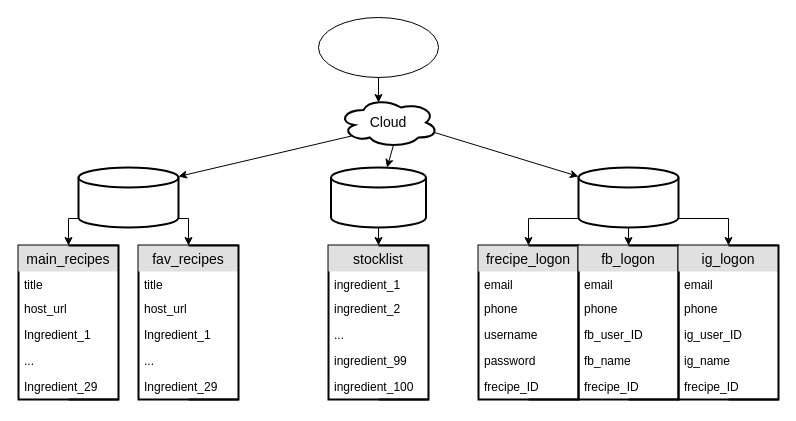
The diagram is 796 pixels wide and 421 high, and some of its shapes have lost their labels. The box of each missing label's shape, as (x1, y1, x2, y2) in pixels:
Frecipe application: (318, 16, 438, 78)
frecipe_recipes: (77, 166, 179, 228)
frecipe_stock: (330, 166, 426, 228)
frecipe_users: (577, 166, 679, 228)
